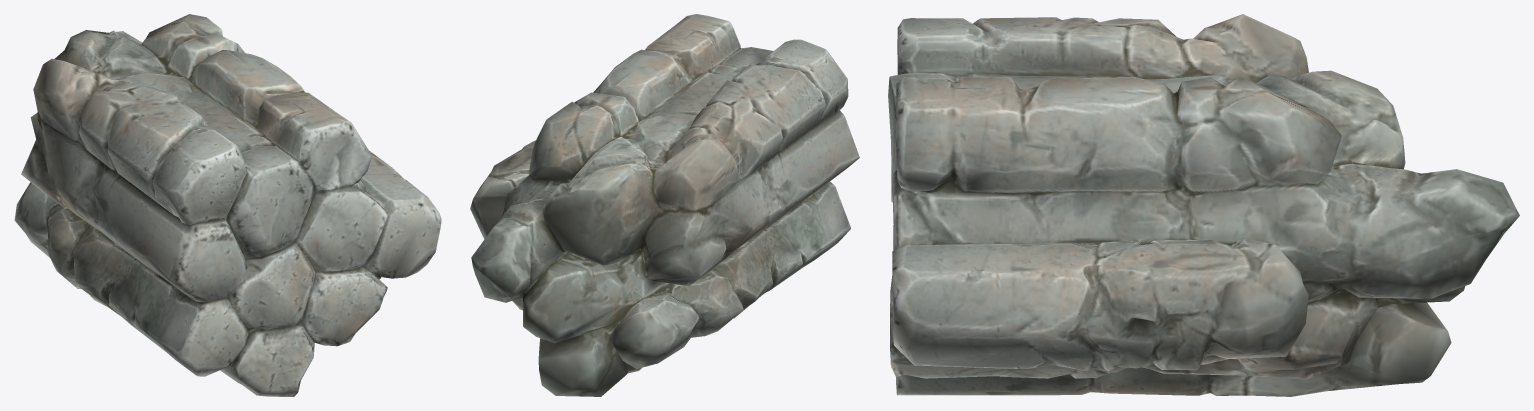
Rendered from VD_Basalt_Group_E.fbx.
3 renders of one model, left to right at view 1: azimuth 30°, elevation 25°; view 2: azimuth 150°, elevation 25°; view 3: azimuth 270°, elevation 25°, orthographic. The views are drawn at different scales.
Parts seen in each view (by area): view 1: VD_Basalt_Group_E; view 2: VD_Basalt_Group_E; view 3: VD_Basalt_Group_E.
Boxes of the visible parts, x1,y1,x2,y2 form: VD_Basalt_Group_E: (14,14,441,396); VD_Basalt_Group_E: (470,14,859,396); VD_Basalt_Group_E: (888,14,1519,396).
Size of the model in its own units: 334 by 298 by 511.
